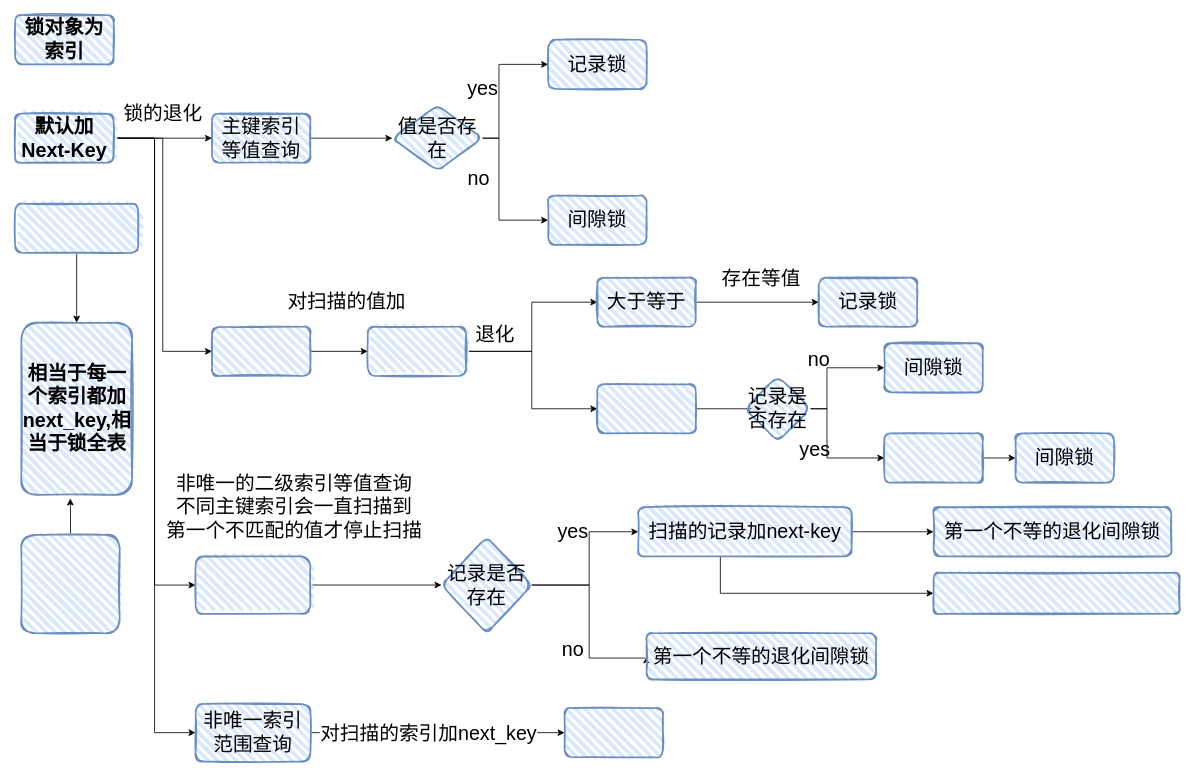
This 1194x776 diagram has some shape labels left out. Here are the shapes that lost their labels. From the top down, the centre of each, then its label:
At pixel 76 228: "锁定读查询语句不走索引".
At pixel 261 351: "主键索引范围查询".
At pixel 417 351: "next-key".
At pixel 646 408: "小于/小于等于".
At pixel 933 457: "小于".
At pixel 70 584: "update delete 也是如此".
At pixel 252 584: "非唯一索引等值查询".
At pixel 1056 593: "相等的主键索引加记录锁".
At pixel 613 732: "没有退化情况发生".
